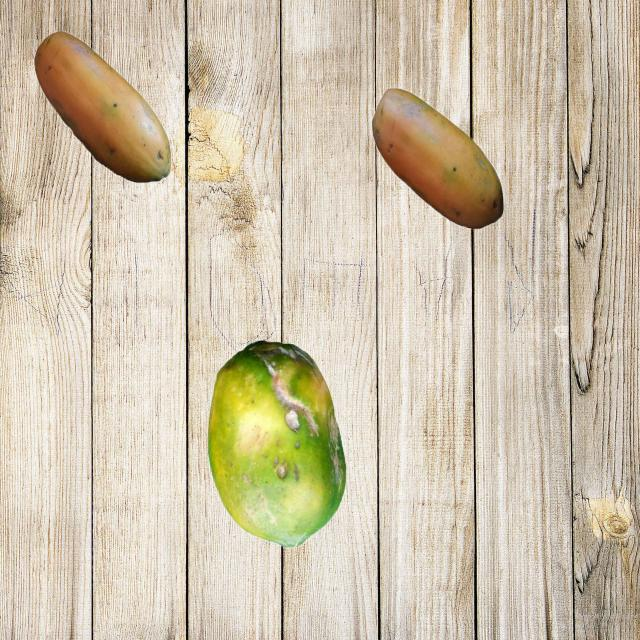Pepaya rippen: (204, 342, 347, 551), (28, 24, 174, 190), (369, 94, 505, 243)
